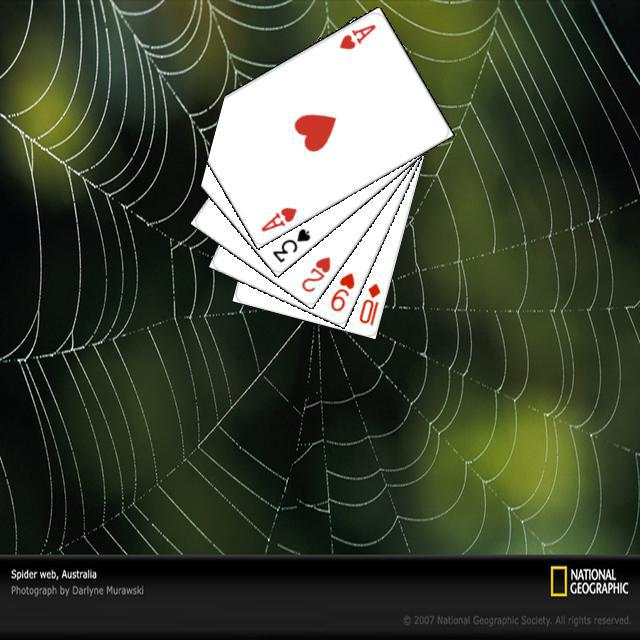10d: (354, 278, 382, 327)
2h: (296, 252, 332, 294)
3s: (268, 223, 312, 264)
9h: (325, 267, 356, 313)
Ah: (334, 19, 378, 51), (256, 202, 299, 234)
